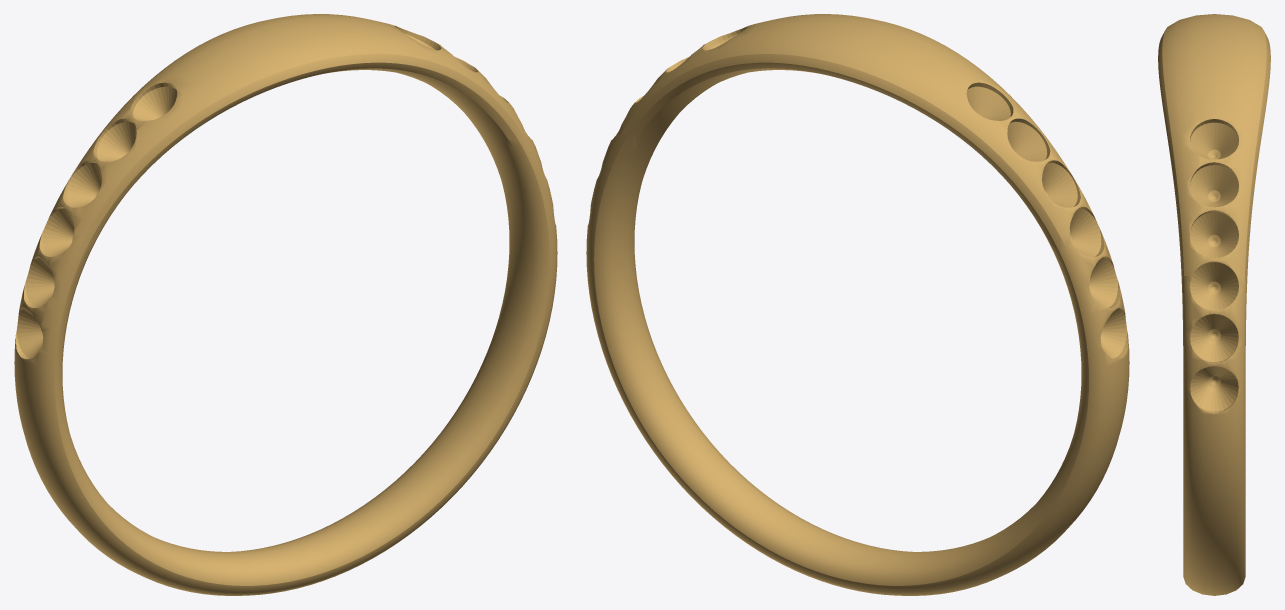
The model's file is reverse-tapered-flush-accents.glb.
The picture shows the model from 3 angles, left to right: view 1: azimuth 30°, elevation 25°; view 2: azimuth 150°, elevation 25°; view 3: azimuth 270°, elevation 25°; orthographic projection. The views are drawn at different scales.
Visible parts, largest first — view 1: Band; view 2: Band; view 3: Band.
Boxes of the visible parts, x1,y1,x2,y2 form: Band: (14, 14, 557, 595); Band: (586, 14, 1129, 595); Band: (1158, 14, 1270, 595).
Size of the model in its own units: 19.6 by 19.6 by 3.8.
